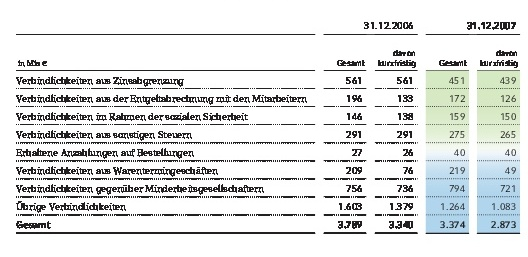table: (0, 0, 528, 257)
